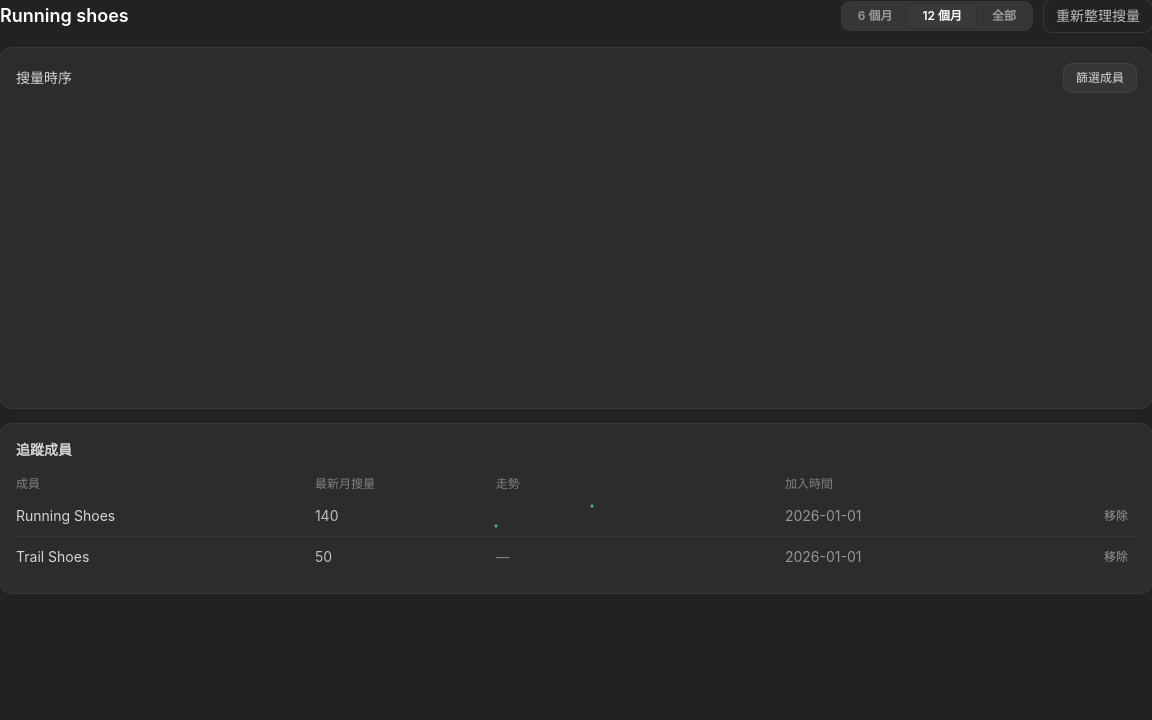
TC-30 · member table (latest volume / sparkline / addedAt / remove) › shows an error and keeps the member when the removal fails (404)
This screenshot has width=1152, height=720.
Click the button with aria-label "移除 Running Shoes" at x=1116, y=516, box [1096,504,1136,528]
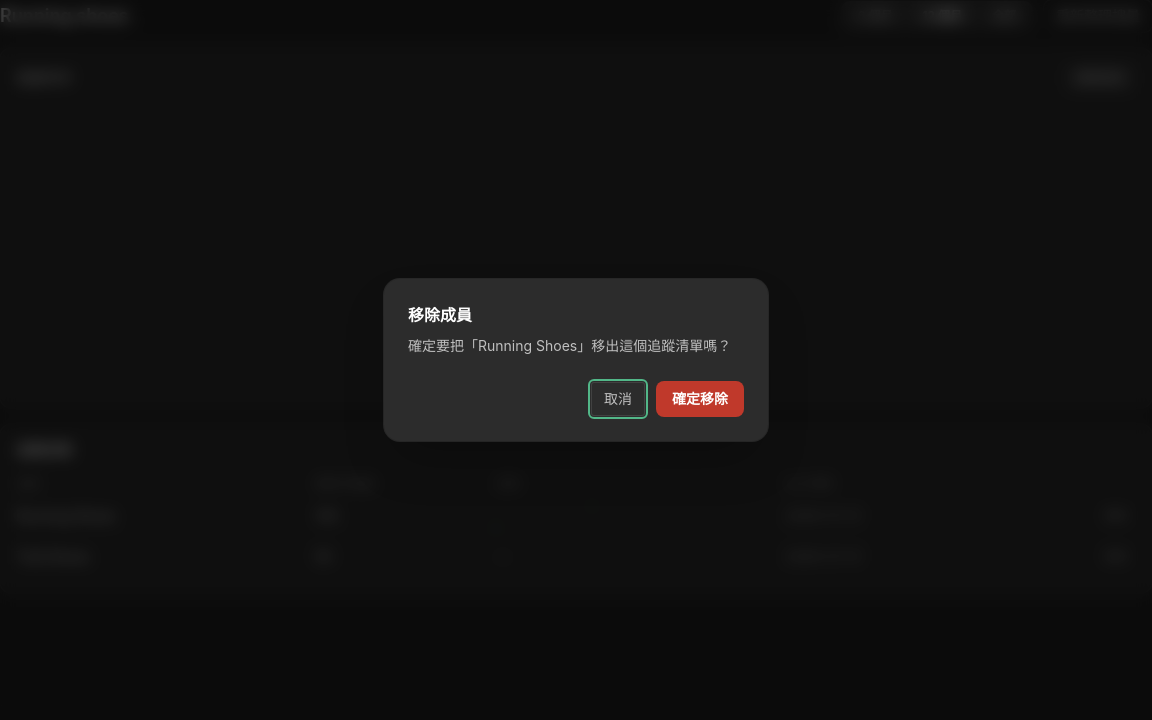
Click the button "確定移除" at x=700, y=399, box [656,381,744,417]
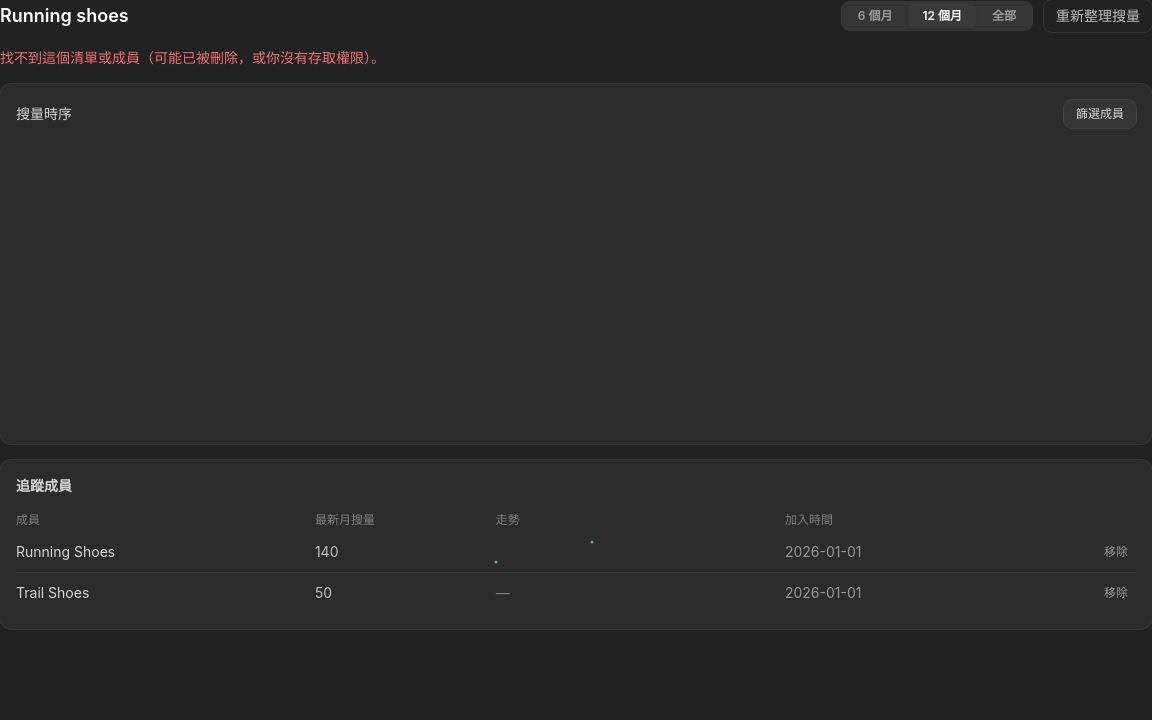
Expected: the text "Running Shoes" is shown, [16,532,315,572]
Expected: the message "找不到這個清單或成員（可能已被刪除，或你沒有存取權限）。" is shown, [0,49,385,66]
